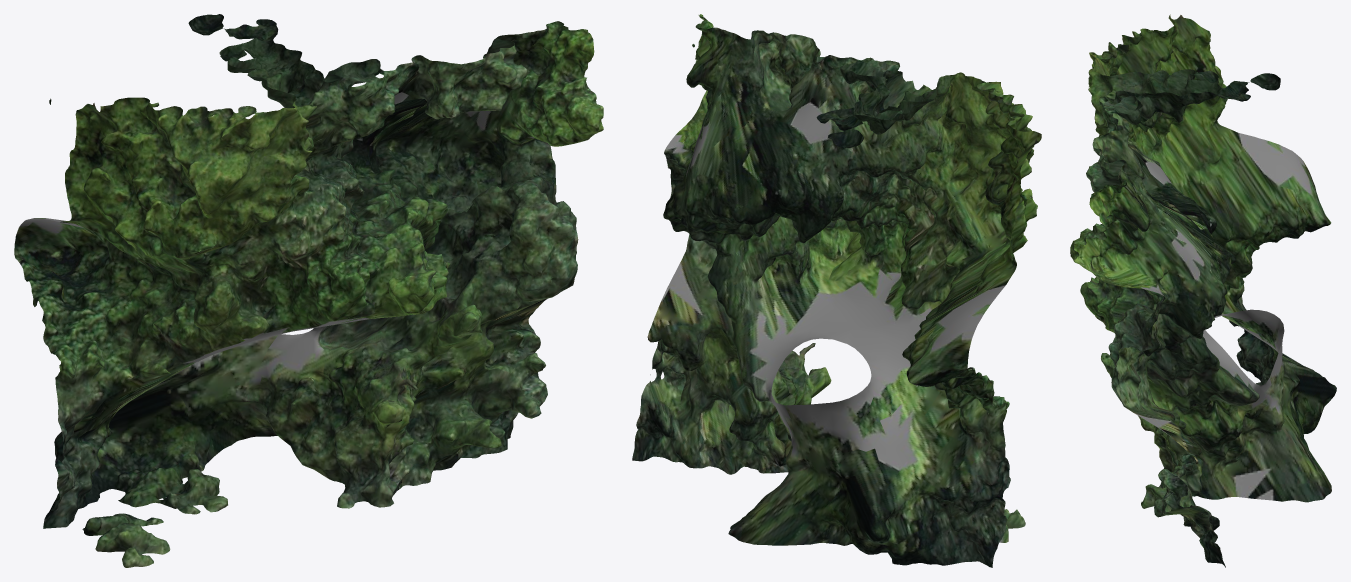
File: Tile_+010_+003.fbx
3 renders of one model, left to right at view 1: azimuth 30°, elevation 25°; view 2: azimuth 150°, elevation 25°; view 3: azimuth 270°, elevation 25°, orthographic. The views are drawn at different scales.
Parts seen in each view (by area): view 1: DefaultName; view 2: DefaultName; view 3: DefaultName.
Part boxes in pixels (left/top/right/bottom): DefaultName: left=14, top=14, right=603, bottom=567; DefaultName: left=632, top=14, right=1041, bottom=567; DefaultName: left=1070, top=14, right=1336, bottom=567.
Bounding box in the file's own units: 22.54 × 22.54 × 14.43.
